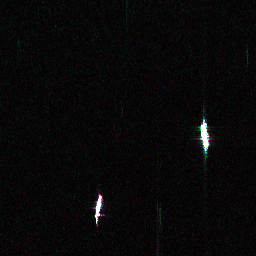ship: (197, 120, 211, 152), (92, 194, 104, 219)
